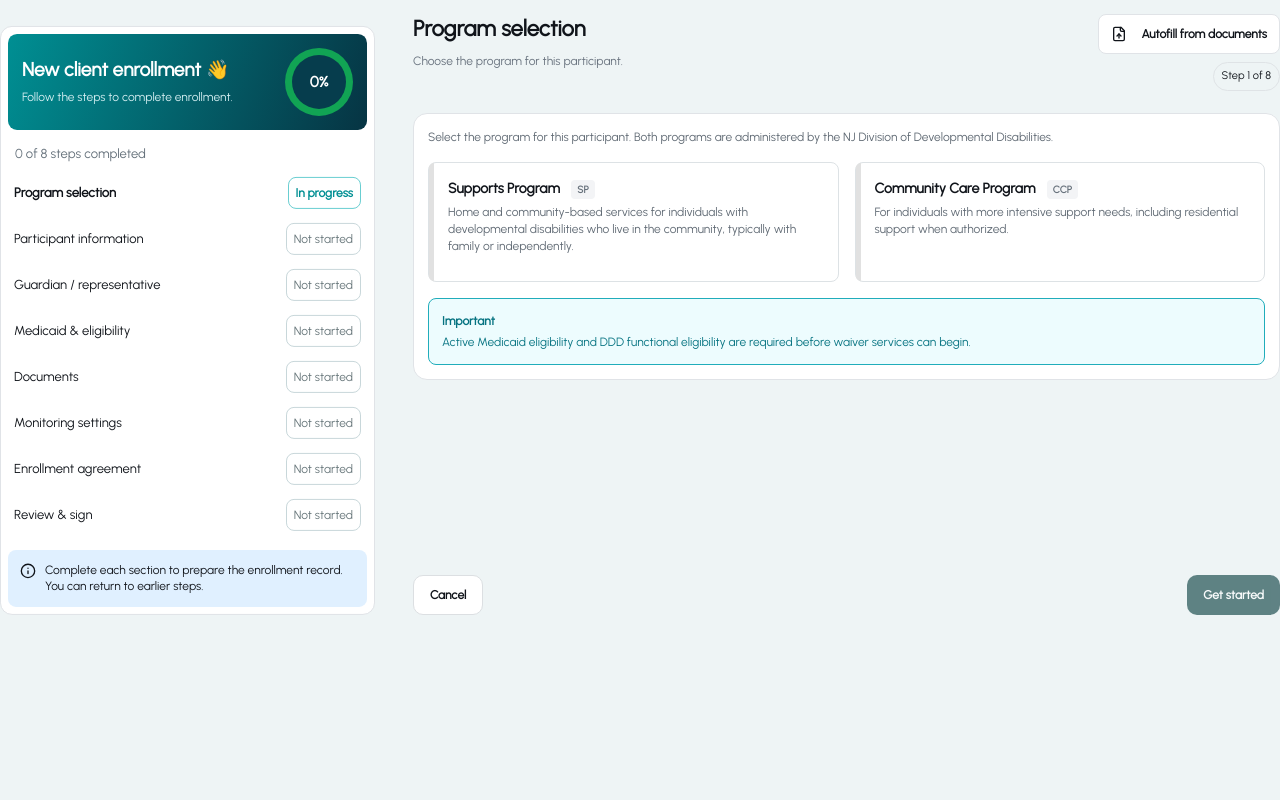
Test case: step one opens document autofill from the heading
Click the button "Autofill from documents" at (1189, 34), box [1098,14,1279,54]
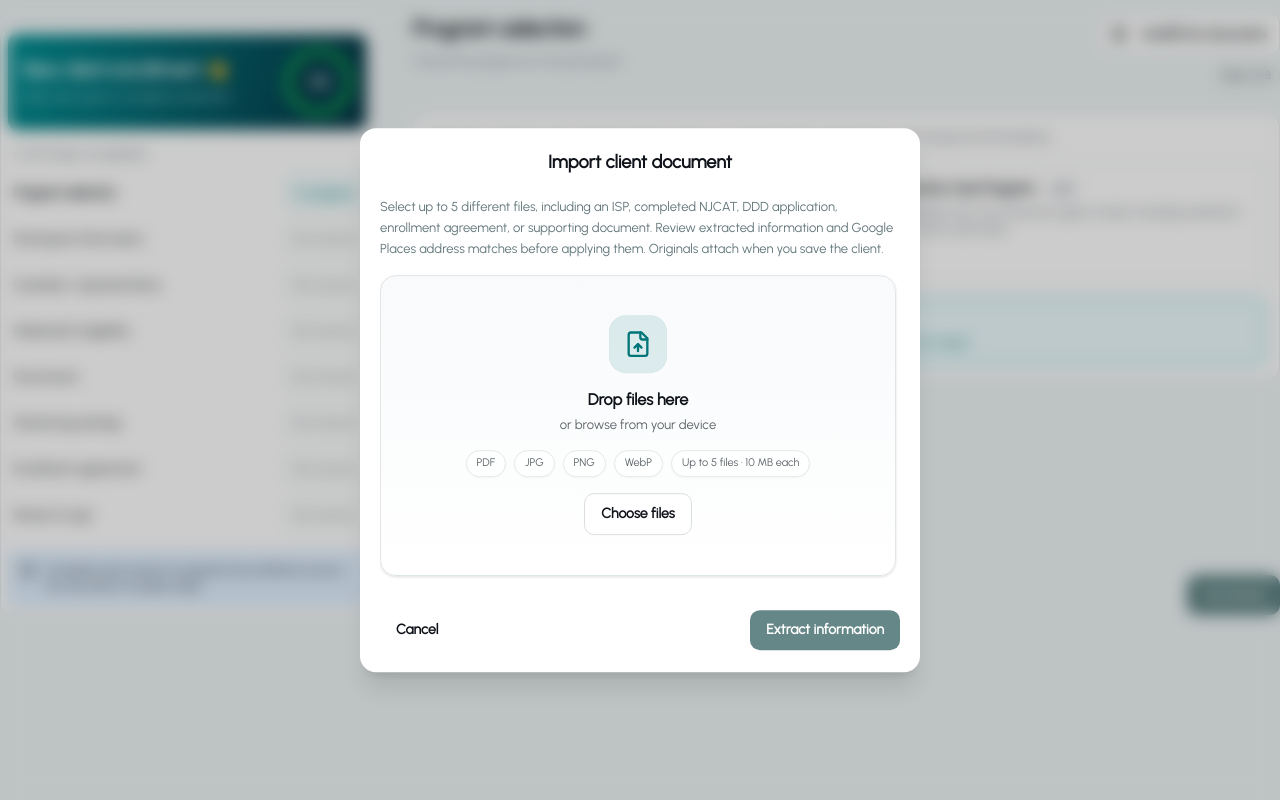
expect the dialog "Import client document" is shown: met, box [360,128,920,672]
expect the text "completed NJCAT" is shown: met, box [380,199,893,256]
expect the button "Cancel" is enabled: met, box [380,608,454,652]
